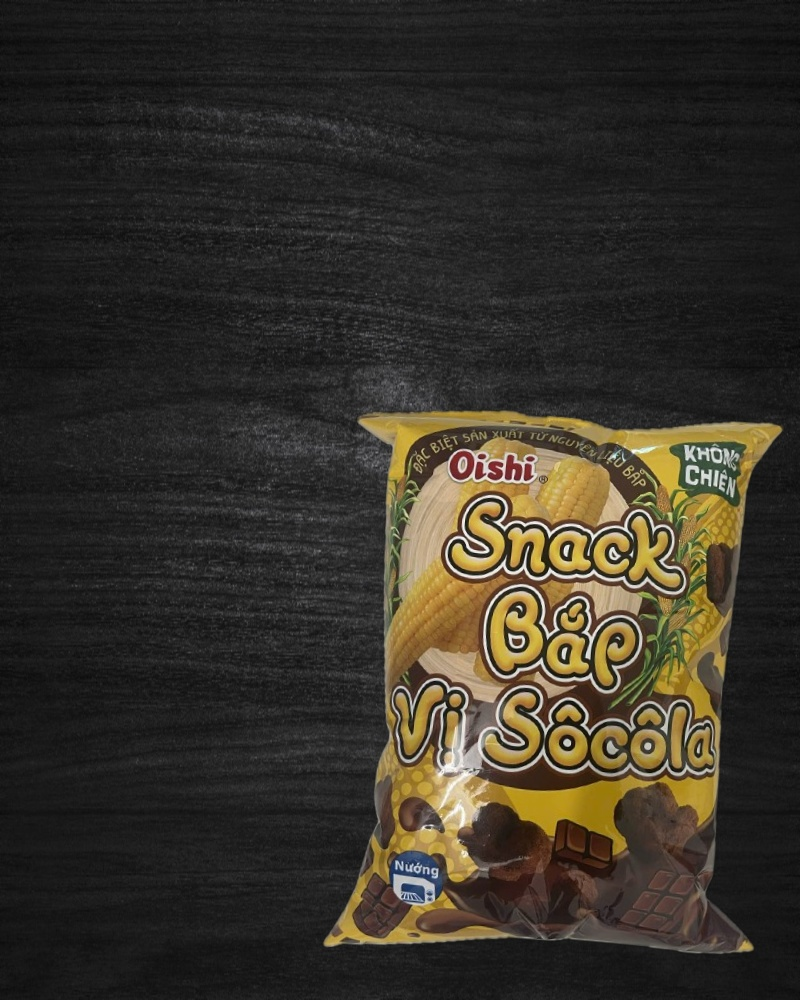Snack socola: (314, 392, 800, 973)
